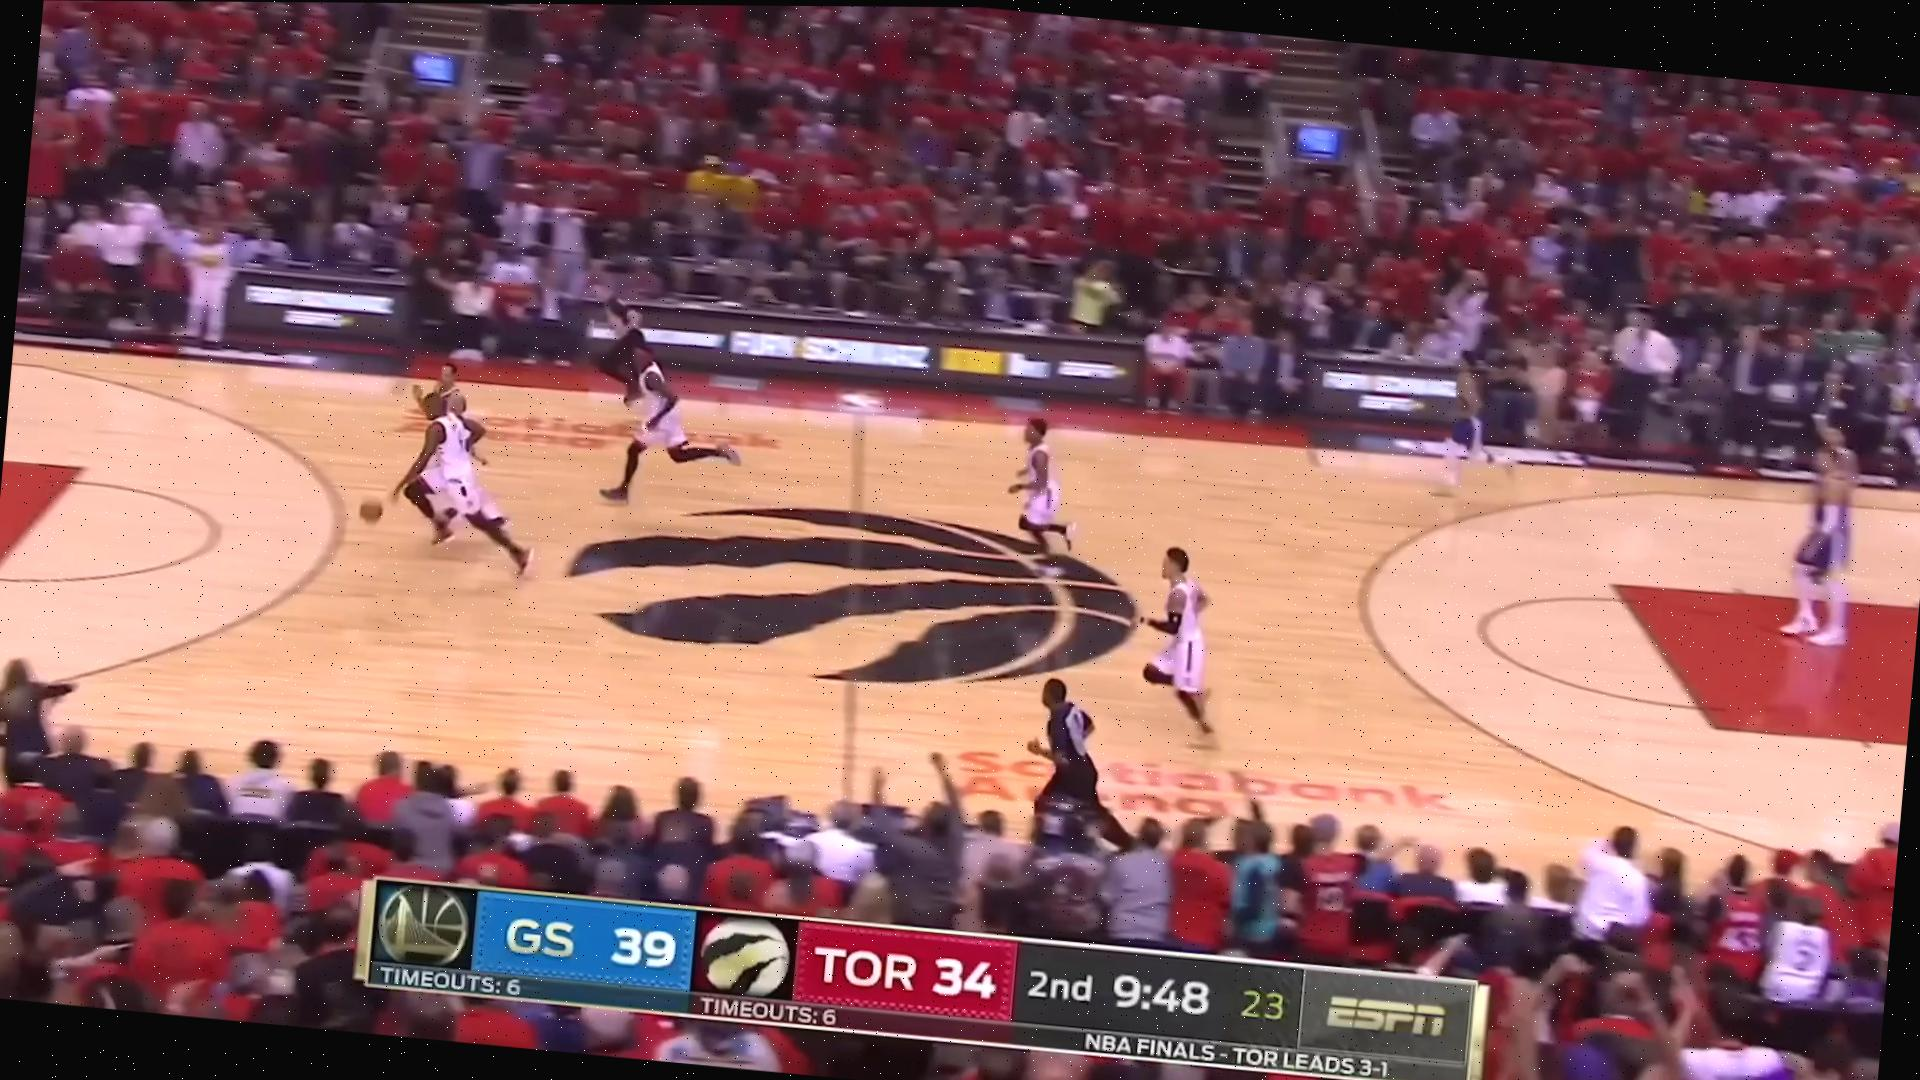no_foul: (342, 349, 574, 597)
